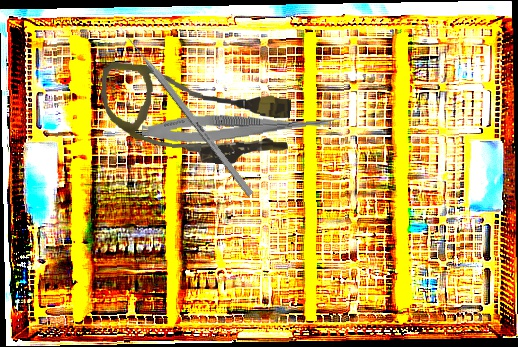Cannula: (96, 61, 294, 169)
Micro Scissor: (141, 105, 342, 147)
Pusher: (117, 25, 255, 197)
